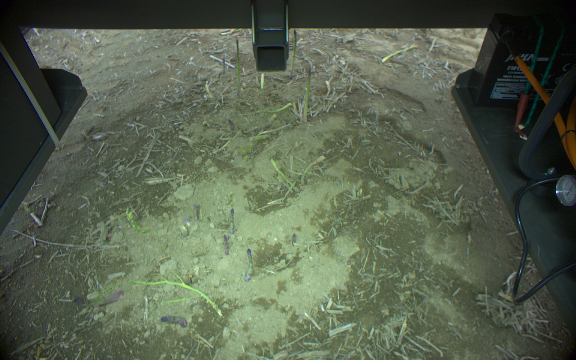aspa: (268, 157, 297, 191), (298, 155, 327, 186), (301, 66, 313, 124), (382, 45, 418, 64), (124, 208, 150, 233), (232, 36, 242, 98), (289, 28, 299, 81), (256, 100, 292, 114), (242, 247, 254, 282), (228, 207, 236, 234), (191, 203, 200, 222), (223, 235, 229, 257)
